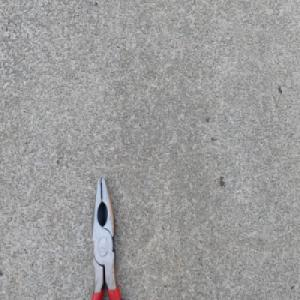Pliers: (89, 175, 123, 300)
